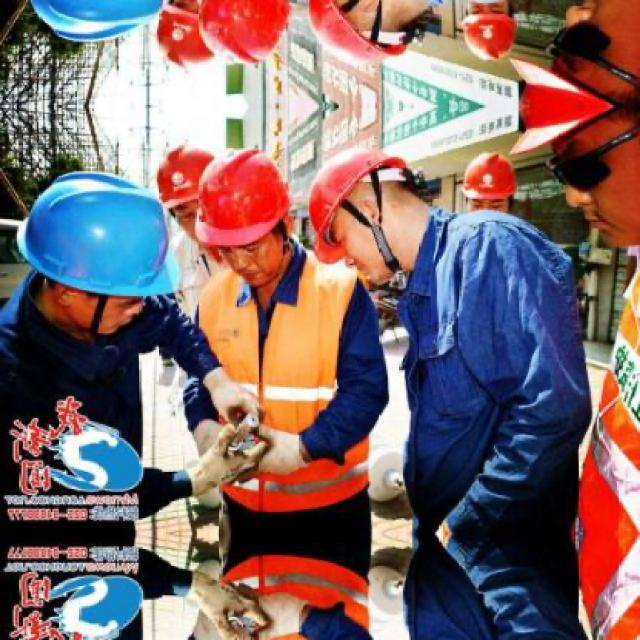helmet: (12, 152, 177, 340), (511, 108, 640, 253), (195, 146, 297, 290), (509, 0, 640, 106), (328, 150, 429, 278), (12, 0, 178, 62), (194, 0, 297, 68), (326, 0, 429, 65), (157, 138, 217, 248), (157, 0, 218, 77), (458, 148, 522, 216), (459, 0, 524, 66)
